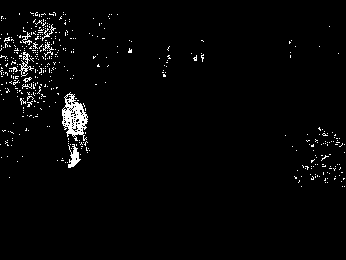person: (59, 92, 91, 170)
